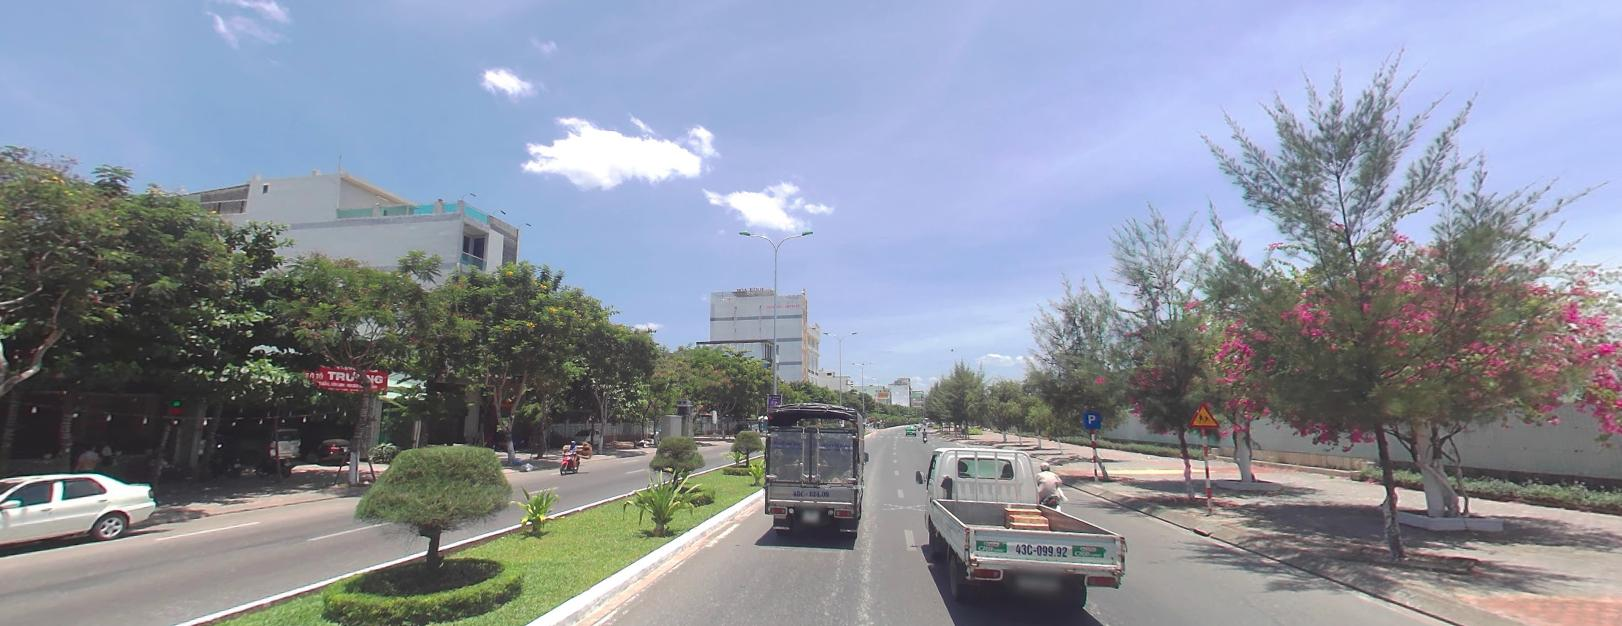Nguy hiem: (1182, 403, 1222, 428)
